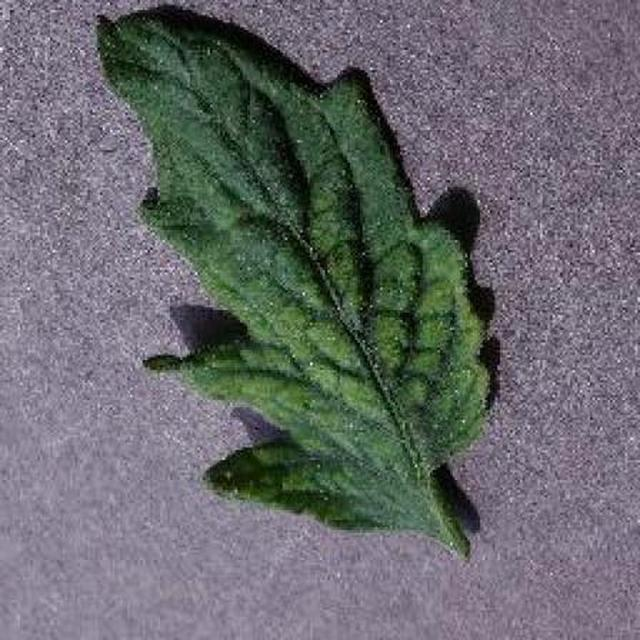Mosaic Virus Leaf: (138, 59, 640, 640)
